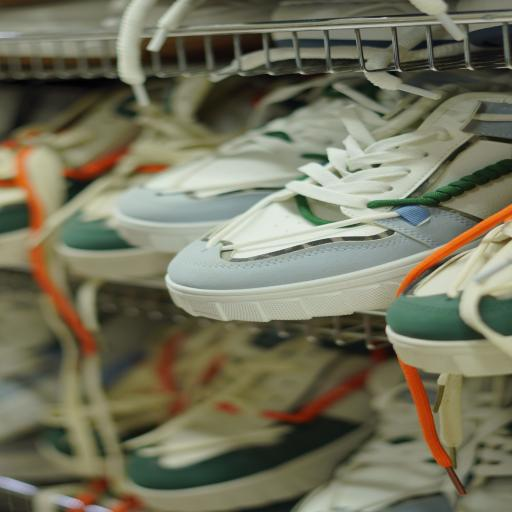shoe: (167, 93, 511, 321), (115, 77, 389, 252), (125, 326, 372, 511), (49, 77, 236, 277), (295, 361, 511, 511), (0, 89, 138, 266), (294, 359, 452, 511), (387, 207, 511, 376), (103, 316, 228, 439), (216, 28, 435, 98), (0, 290, 53, 379), (272, 0, 420, 21), (457, 0, 510, 15)
